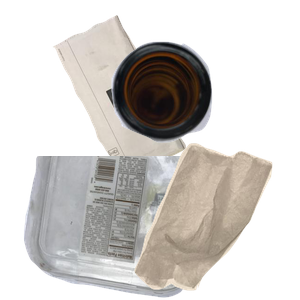glass: (109, 39, 300, 175)
paper: (51, 13, 230, 186)
plastic: (21, 156, 226, 300)
trash: (132, 140, 300, 300)
